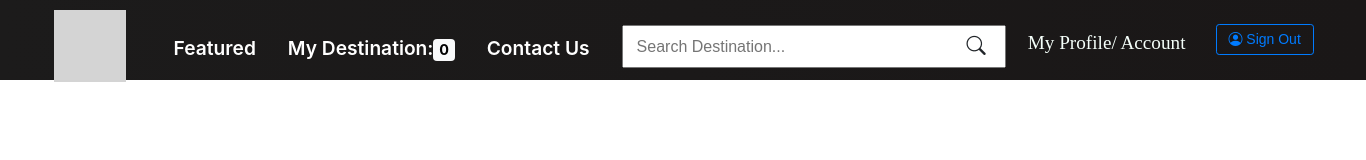
Test case: my profile/account link should NOT be visible if no user is signed in
Click the button with aria-label "computer sign out button" at (1265, 39), box [1216,24,1314,55]
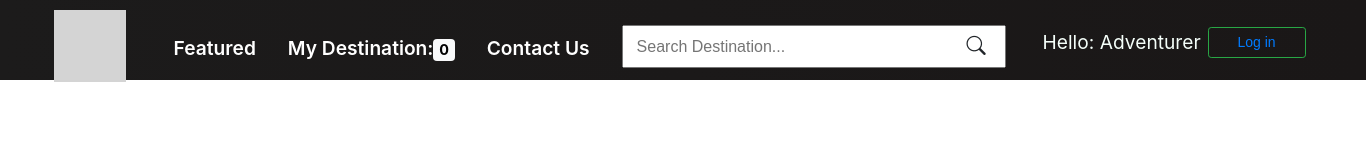
Check: the text with test id "profile-account" is gone
